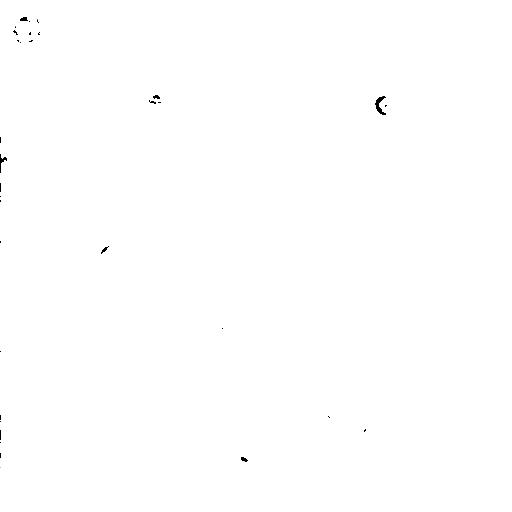micro-algae: (11, 11, 40, 43), (0, 143, 21, 180), (360, 415, 385, 443), (235, 442, 257, 467), (98, 243, 119, 269), (374, 95, 395, 115), (1, 421, 13, 451)
